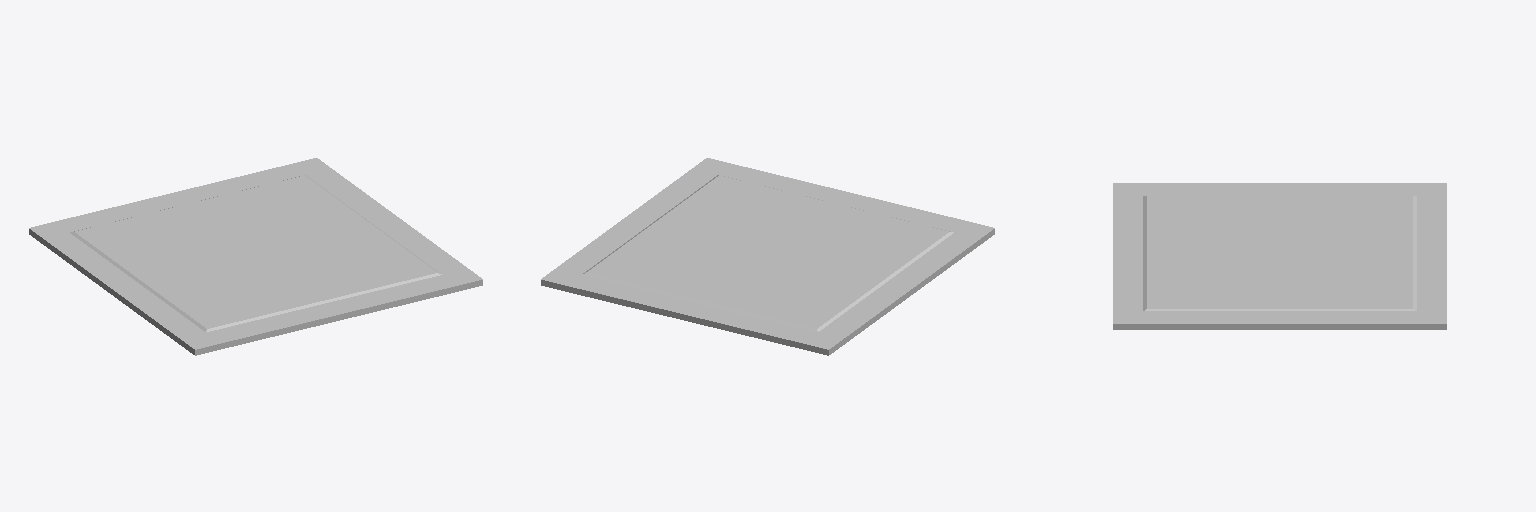
Rendered from board.obj.
3 views of the same model, side by side, from view 1: azimuth 30°, elevation 25°; view 2: azimuth 150°, elevation 25°; view 3: azimuth 270°, elevation 25° (orthographic).
Visible parts, largest first — view 1: Plane; view 2: Plane; view 3: Plane.
Part boxes in pixels (x1,y1,x2,y2): Plane: (29,158,482,355); Plane: (541,158,994,355); Plane: (1113,183,1446,329).
Size of the model in its own units: 2 by 0.05 by 2.